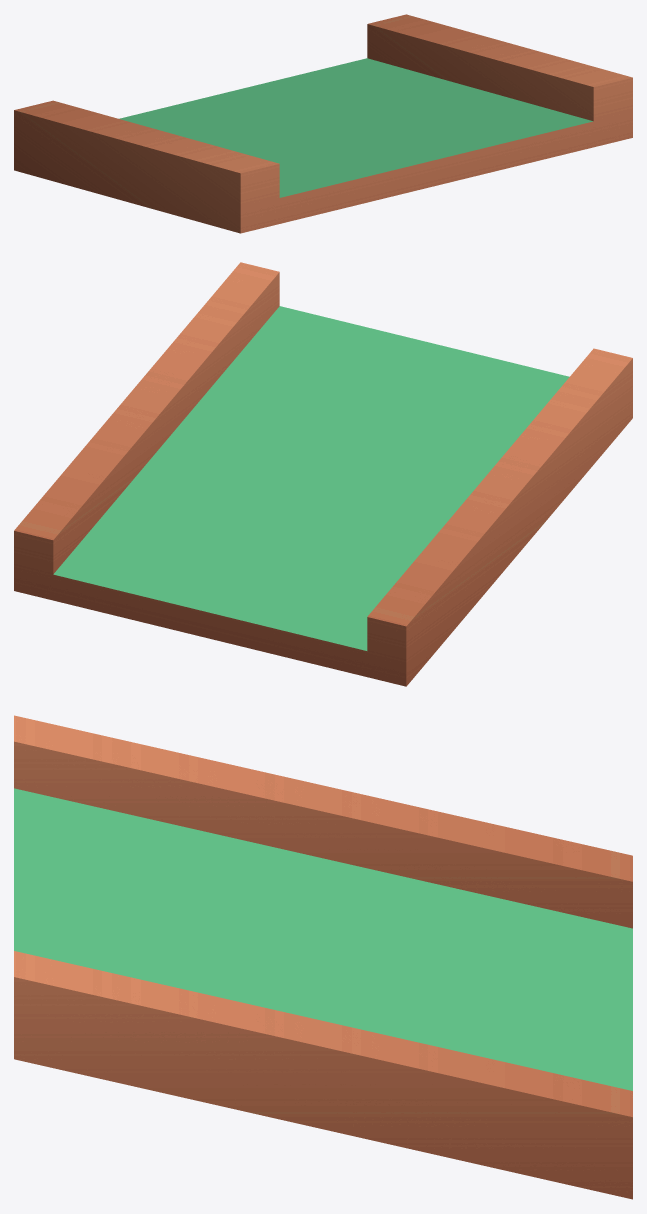
The model's file is ramp-medium.glb.
The picture shows the model from 3 angles, top to bottom: view 1: azimuth 30°, elevation 25°; view 2: azimuth 150°, elevation 25°; view 3: azimuth 270°, elevation 25°; orthographic projection. The views are drawn at different scales.
Visible parts, largest first — view 1: ramp-medium; view 2: ramp-medium; view 3: ramp-medium.
Part boxes in pixels (<box>): ramp-medium: <box>14,14,632,233</box>; ramp-medium: <box>14,262,632,686</box>; ramp-medium: <box>14,715,632,1199</box>.
Size of the model in its own units: 0.9999 by 0.3967 by 0.9999.
Materials: 1 (1 with a texture image).
